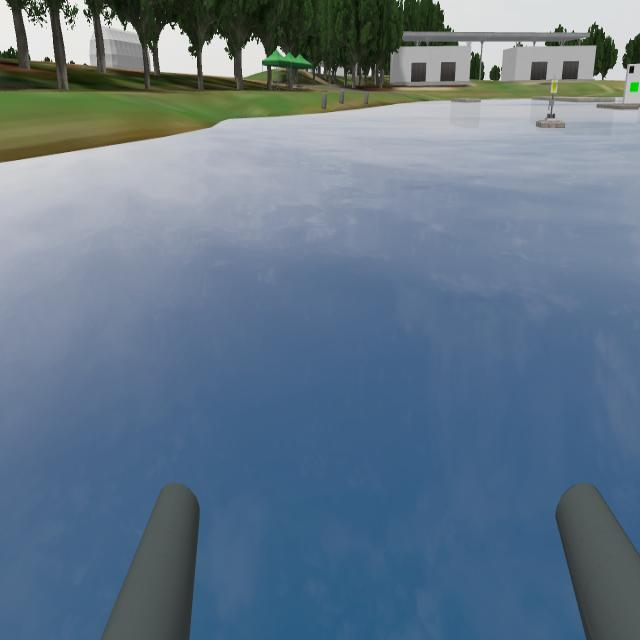yellow_pole: (544, 70, 564, 100)
